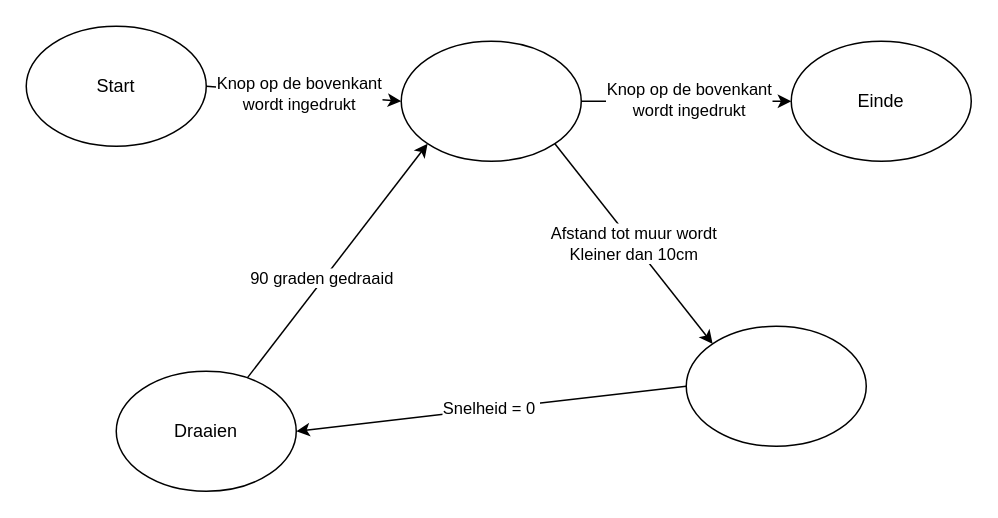
Some shapes in this 998 by 518 pixel diagram are drawn without their labels. The centre of each missing label's shape, as x and y in pixels:
"Rijden" goes at pixel 490 100.
"Stoppen" goes at pixel 775 385.
